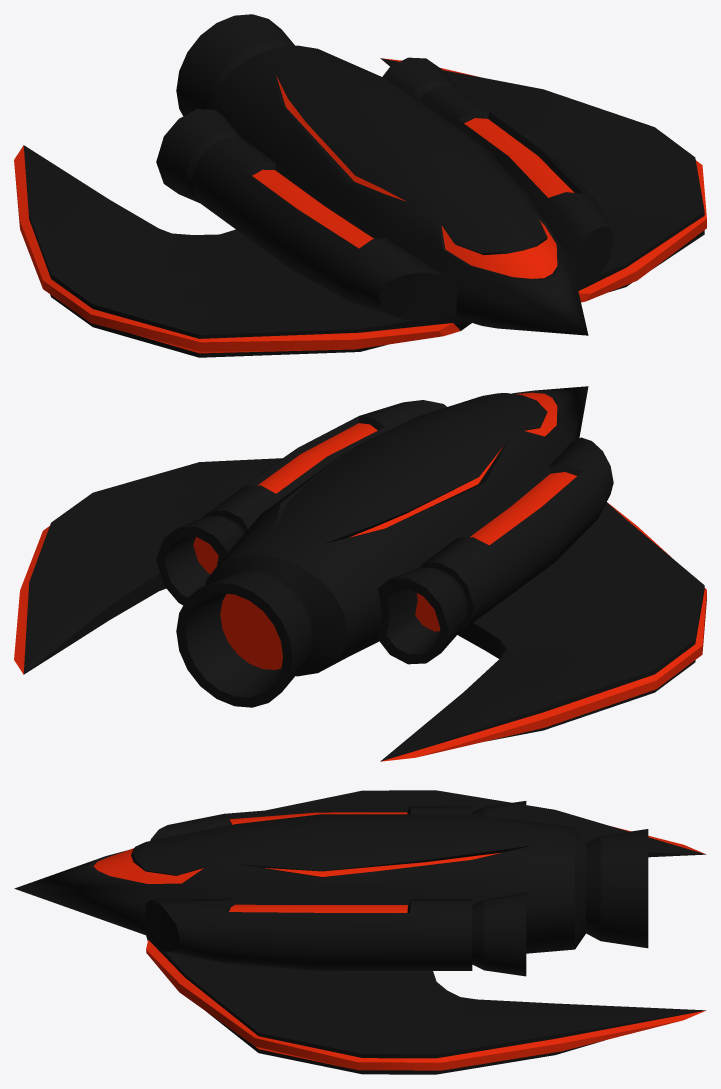
The model's file is Bloaty.fbx.
3 views of the same model, one above another, from view 1: azimuth 30°, elevation 25°; view 2: azimuth 150°, elevation 25°; view 3: azimuth 270°, elevation 25° (orthographic). The views are drawn at different scales.
Parts seen in each view (by area): view 1: bloaty__highSpeed; view 2: bloaty__highSpeed; view 3: bloaty__highSpeed.
Part boxes in pixels (left/top/right/bottom): bloaty__highSpeed: left=14, top=14, right=706, bottom=357; bloaty__highSpeed: left=14, top=386, right=706, bottom=761; bloaty__highSpeed: left=14, top=790, right=706, bottom=1074.
Bounding box in the file's own units: 4.42 × 0.978 × 4.82.
